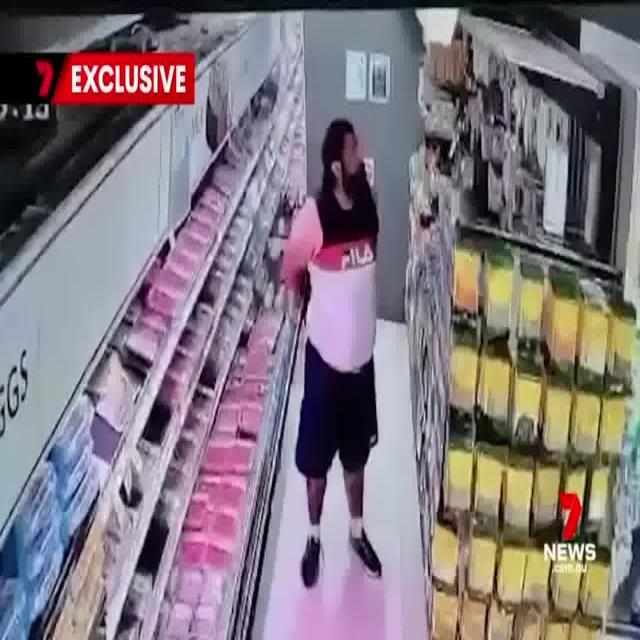persone: (286, 96, 388, 616)
